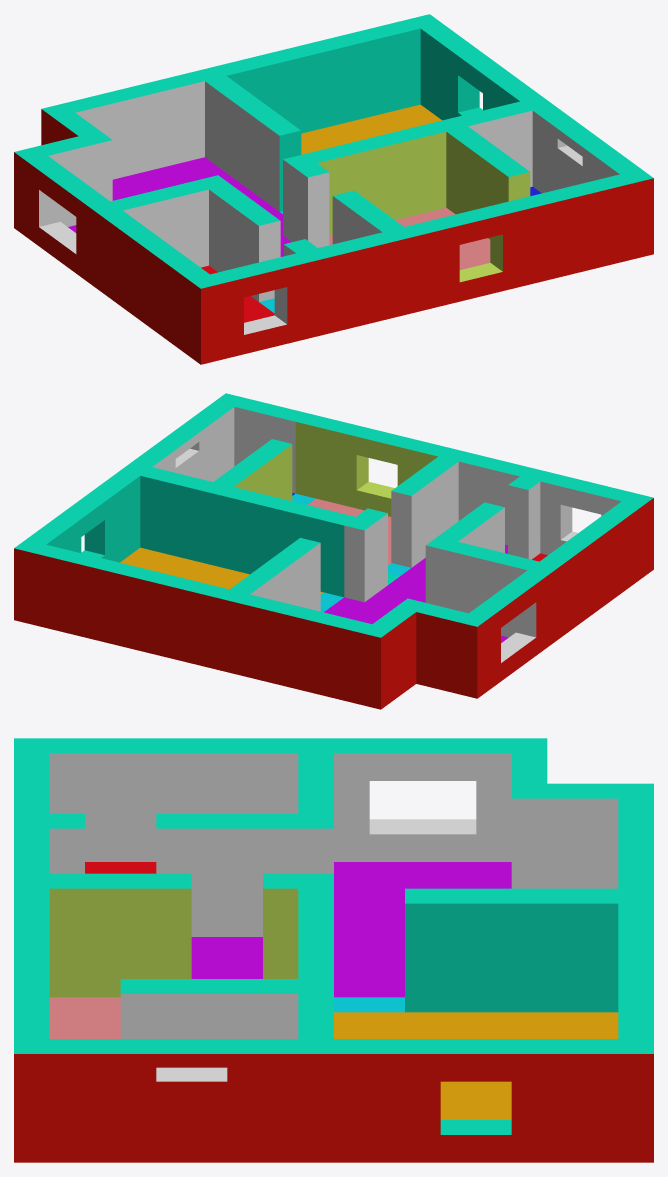
Rendered from House.fbx.
The picture shows the model from 3 angles, top to bottom: view 1: azimuth 30°, elevation 25°; view 2: azimuth 150°, elevation 25°; view 3: azimuth 270°, elevation 25°; orthographic projection. The views are drawn at different scales.
Parts seen in each view (by area): view 1: Cube.002, Cube.004, Cube.007, Cube.003, Cube.011, Cube, Cube.009, Cube.010, Cube.013, Cube.014, Cube.012, Cube.006 (+2 smaller); view 2: Cube.004, Cube.002, Cube.011, Cube.007, Cube.003, Cube, Cube.006, Cube.014, Cube.001, Cube.009, Cube.012, Cube.010 (+3 smaller); view 3: Cube.003, Cube.007, Cube, Cube.009, Cube.001, Cube.002, Cube.013, Cube.005, Cube.010, Cube.004, Cube.011, Cube.012 (+3 smaller).
Boxes of the visible parts, x1,y1,x2,y2 form: Cube.002: (188,169,653,364); Cube.004: (41,19,420,179); Cube.007: (26,156,209,355); Cube.003: (408,14,640,193); Cube.011: (305,101,532,235); Cube: (68,104,541,322); Cube.009: (205,76,301,211); Cube.010: (446,126,530,239); Cube.013: (209,184,280,301); Cube.014: (110,175,230,267); Cube.012: (283,154,329,247); Cube.006: (14,136,91,236); Cube.004: (34,544,392,709); Cube.002: (214,393,653,577); Cube.011: (140,467,355,597); Cube.007: (469,501,642,689); Cube.003: (14,402,234,624); Cube: (120,493,547,642); Cube.006: (416,603,489,698); Cube.014: (425,537,538,637); Cube.001: (391,456,458,567); Cube.009: (230,538,320,611); Cube.012: (344,508,387,602); Cube.010: (214,439,292,501); Cube.003: (49,1039,653,1162); Cube.007: (49,738,511,861); Cube: (49,862,618,1119); Cube.009: (405,888,618,1012); Cube.001: (49,873,191,997); Cube.002: (14,738,49,1162); Cube.013: (156,813,298,936); Cube.005: (511,783,618,888); Cube.010: (120,979,298,1038); Cube.004: (618,783,653,1038); Cube.011: (298,888,333,1038); Cube.012: (263,873,333,978).
Size of the model in its own units: 2977 by 477 by 2551.
